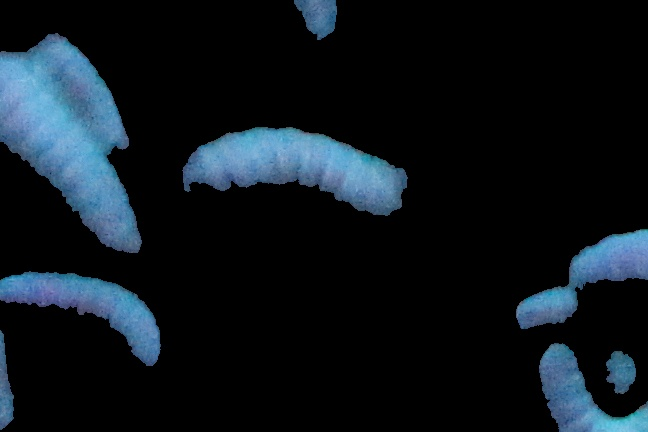larvae: (1, 50, 141, 256), (179, 114, 408, 230), (1, 270, 162, 367), (526, 340, 646, 432), (32, 34, 125, 152), (567, 216, 648, 298)
